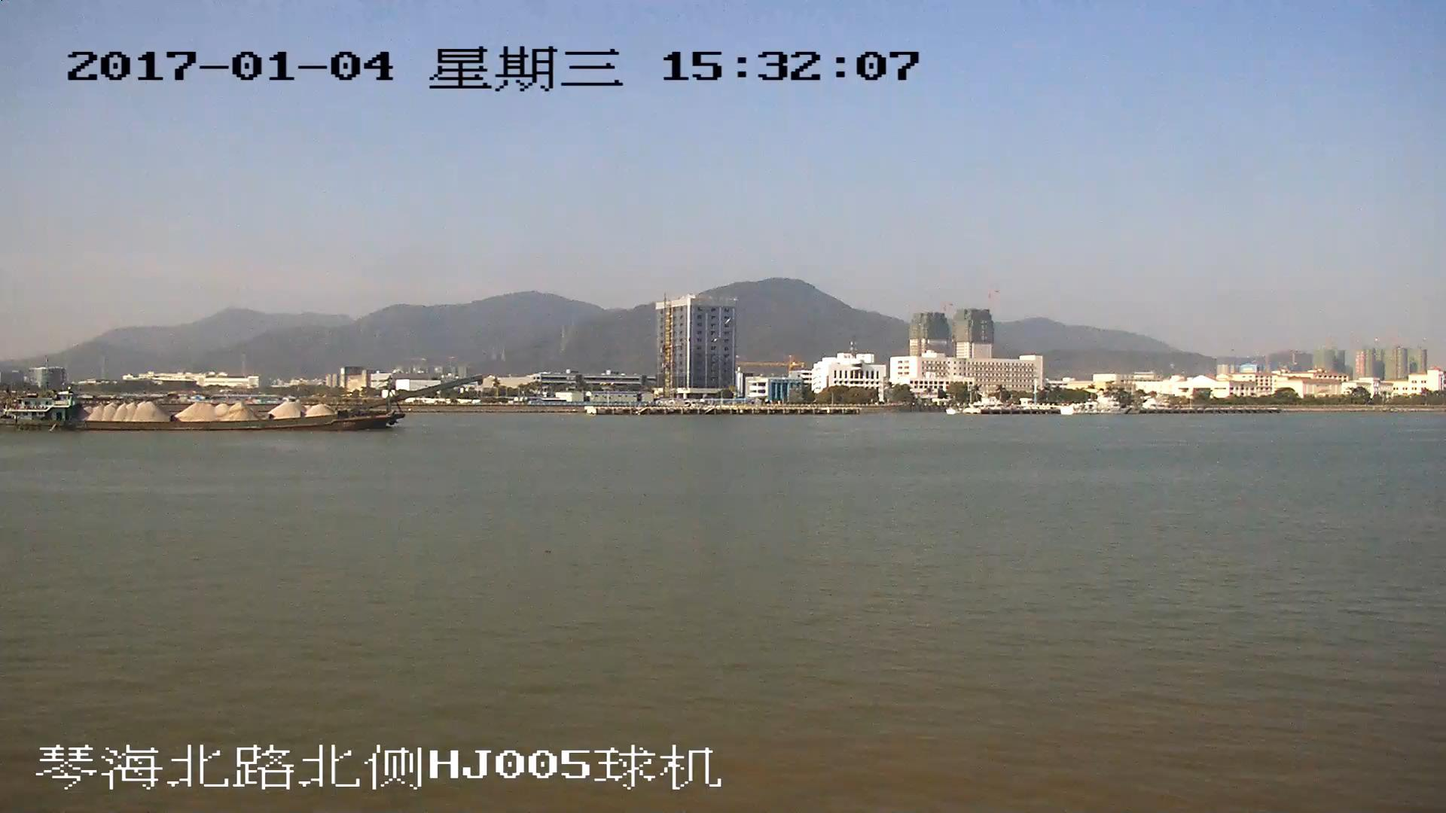ore carrier: (8, 376, 477, 430)
